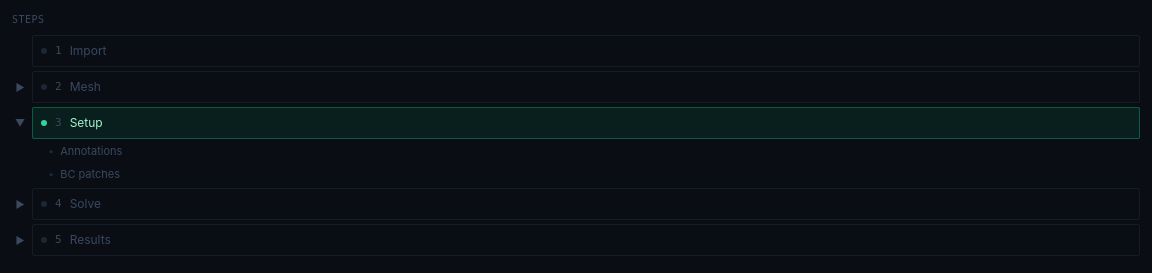
Test: StepTree · Fluent-style hierarchy (DEC-V61-117) › chevron click collapses an auto-expanded active row (pure disclosure semantics)
This screenshot has width=1152, height=273.
Expected: the list with test id "step-tree-subnodes-3" is shown, [48,144,122,180]
Note: First click → collapse (matches aria-expanded contract).
Click the button with test id "step-tree-chevron-3" at (20, 123), box [12,107,28,139]
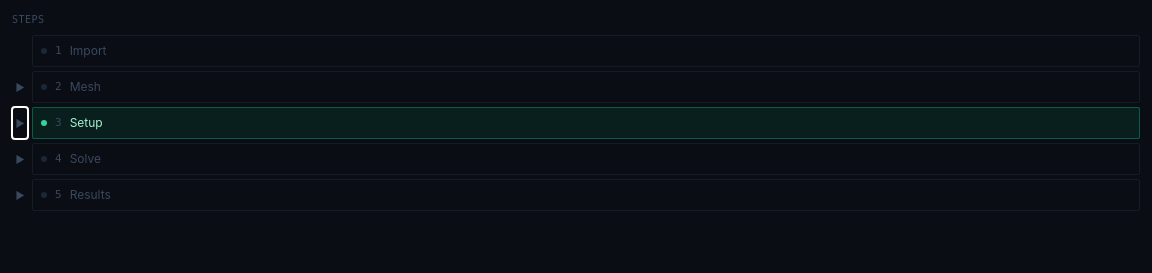
Result: the list with test id "step-tree-subnodes-3" is gone
Result: the button with test id "step-tree-chevron-3" is collapsed
Note: Second click → re-expand.
Click the button with test id "step-tree-chevron-3" at (20, 123), box [12,107,28,139]
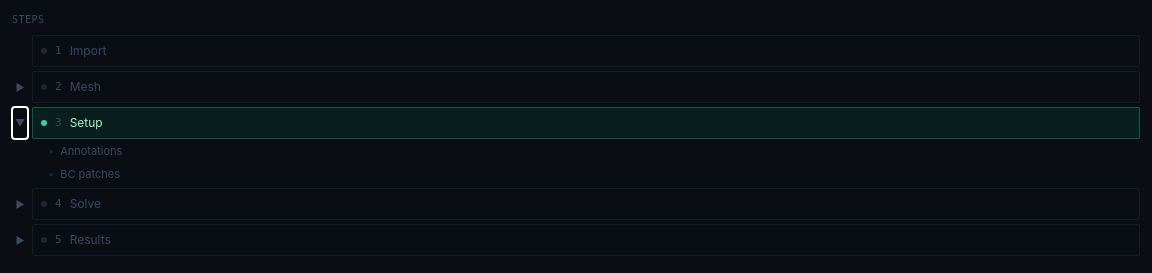
Result: the list with test id "step-tree-subnodes-3" is shown at [48,144,122,180]
Result: the button with test id "step-tree-chevron-3" is expanded at [12,107,28,139]
